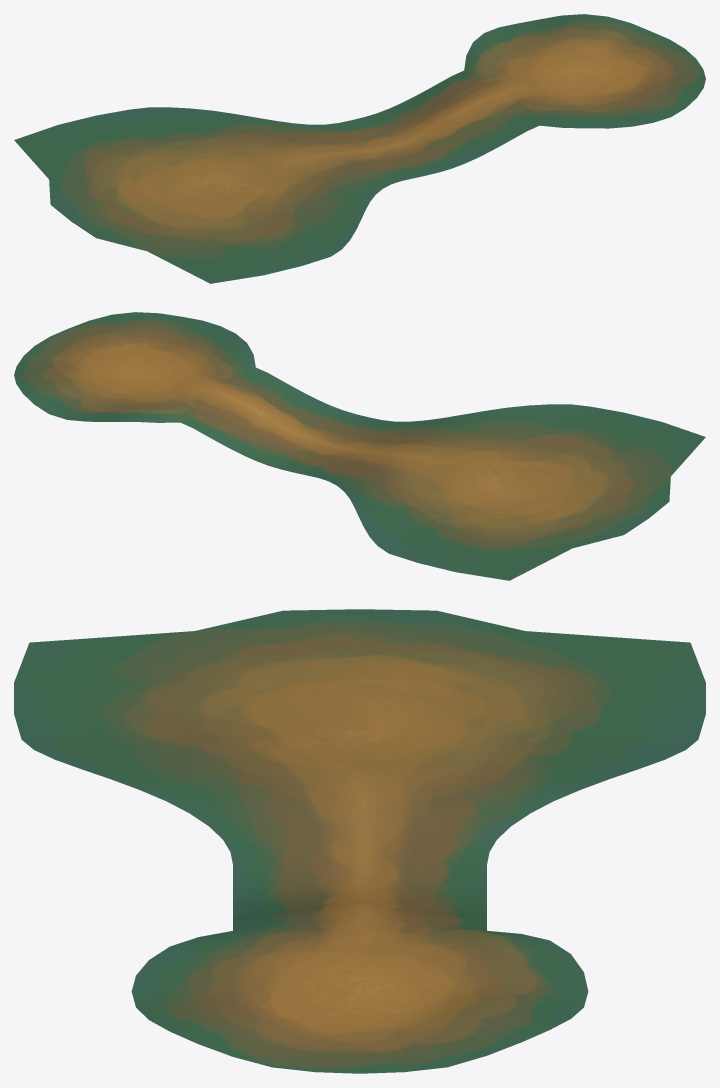
File: Ground.fbx
3 views of the same model, one above another, from view 1: azimuth 30°, elevation 25°; view 2: azimuth 150°, elevation 25°; view 3: azimuth 270°, elevation 25° (orthographic). The views are drawn at different scales.
Parts seen in each view (by area): view 1: Circle.003; view 2: Circle.003; view 3: Circle.003.
Boxes of the visible parts, <box> form: Circle.003: <box>14,14,705,283</box>; Circle.003: <box>14,312,705,580</box>; Circle.003: <box>14,609,705,1073</box>.
Size of the model in its own units: 29098 by 1437 by 16889.
